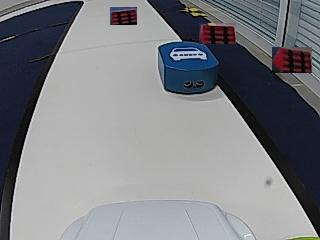safety: (169, 46, 207, 61)
